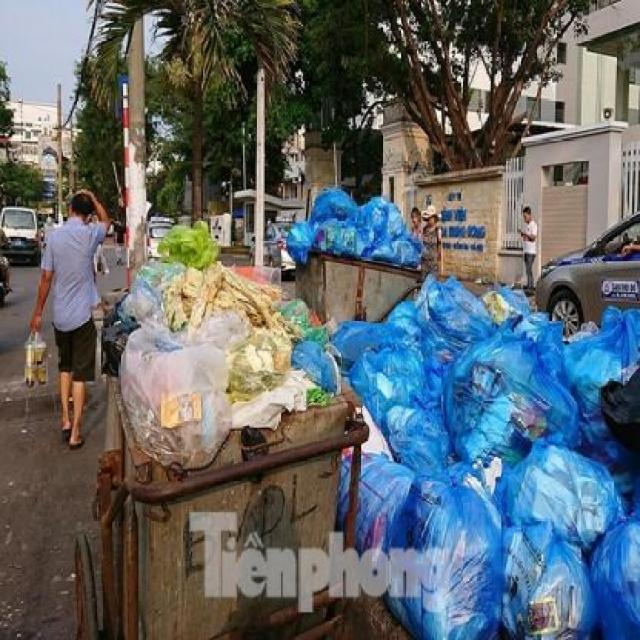plastic bag: (310, 257, 638, 637), (106, 220, 334, 534), (563, 317, 632, 505), (294, 185, 417, 260)
